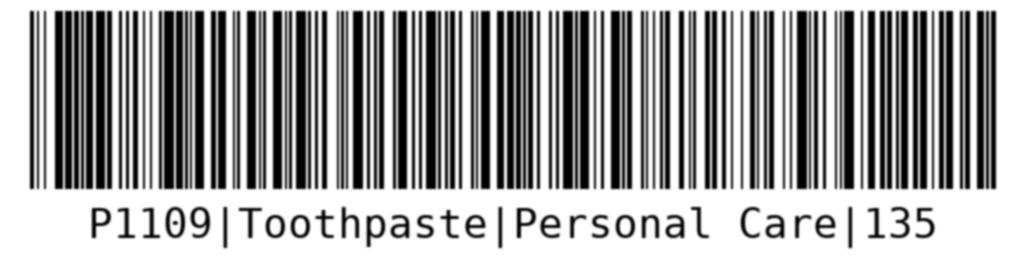milk: (21, 6, 1004, 250)
